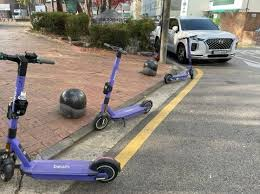kick_board: (2, 51, 119, 182), (95, 42, 152, 127), (162, 33, 195, 81)
kick_body: (30, 160, 90, 179), (173, 74, 188, 80)
kick_handler: (1, 51, 55, 71), (105, 42, 127, 56), (178, 34, 198, 40)
kick_neck: (8, 73, 29, 146), (103, 61, 120, 108), (186, 41, 192, 68)
kick_wheel: (93, 156, 118, 182), (95, 113, 108, 129), (142, 99, 152, 113), (164, 73, 172, 83)
